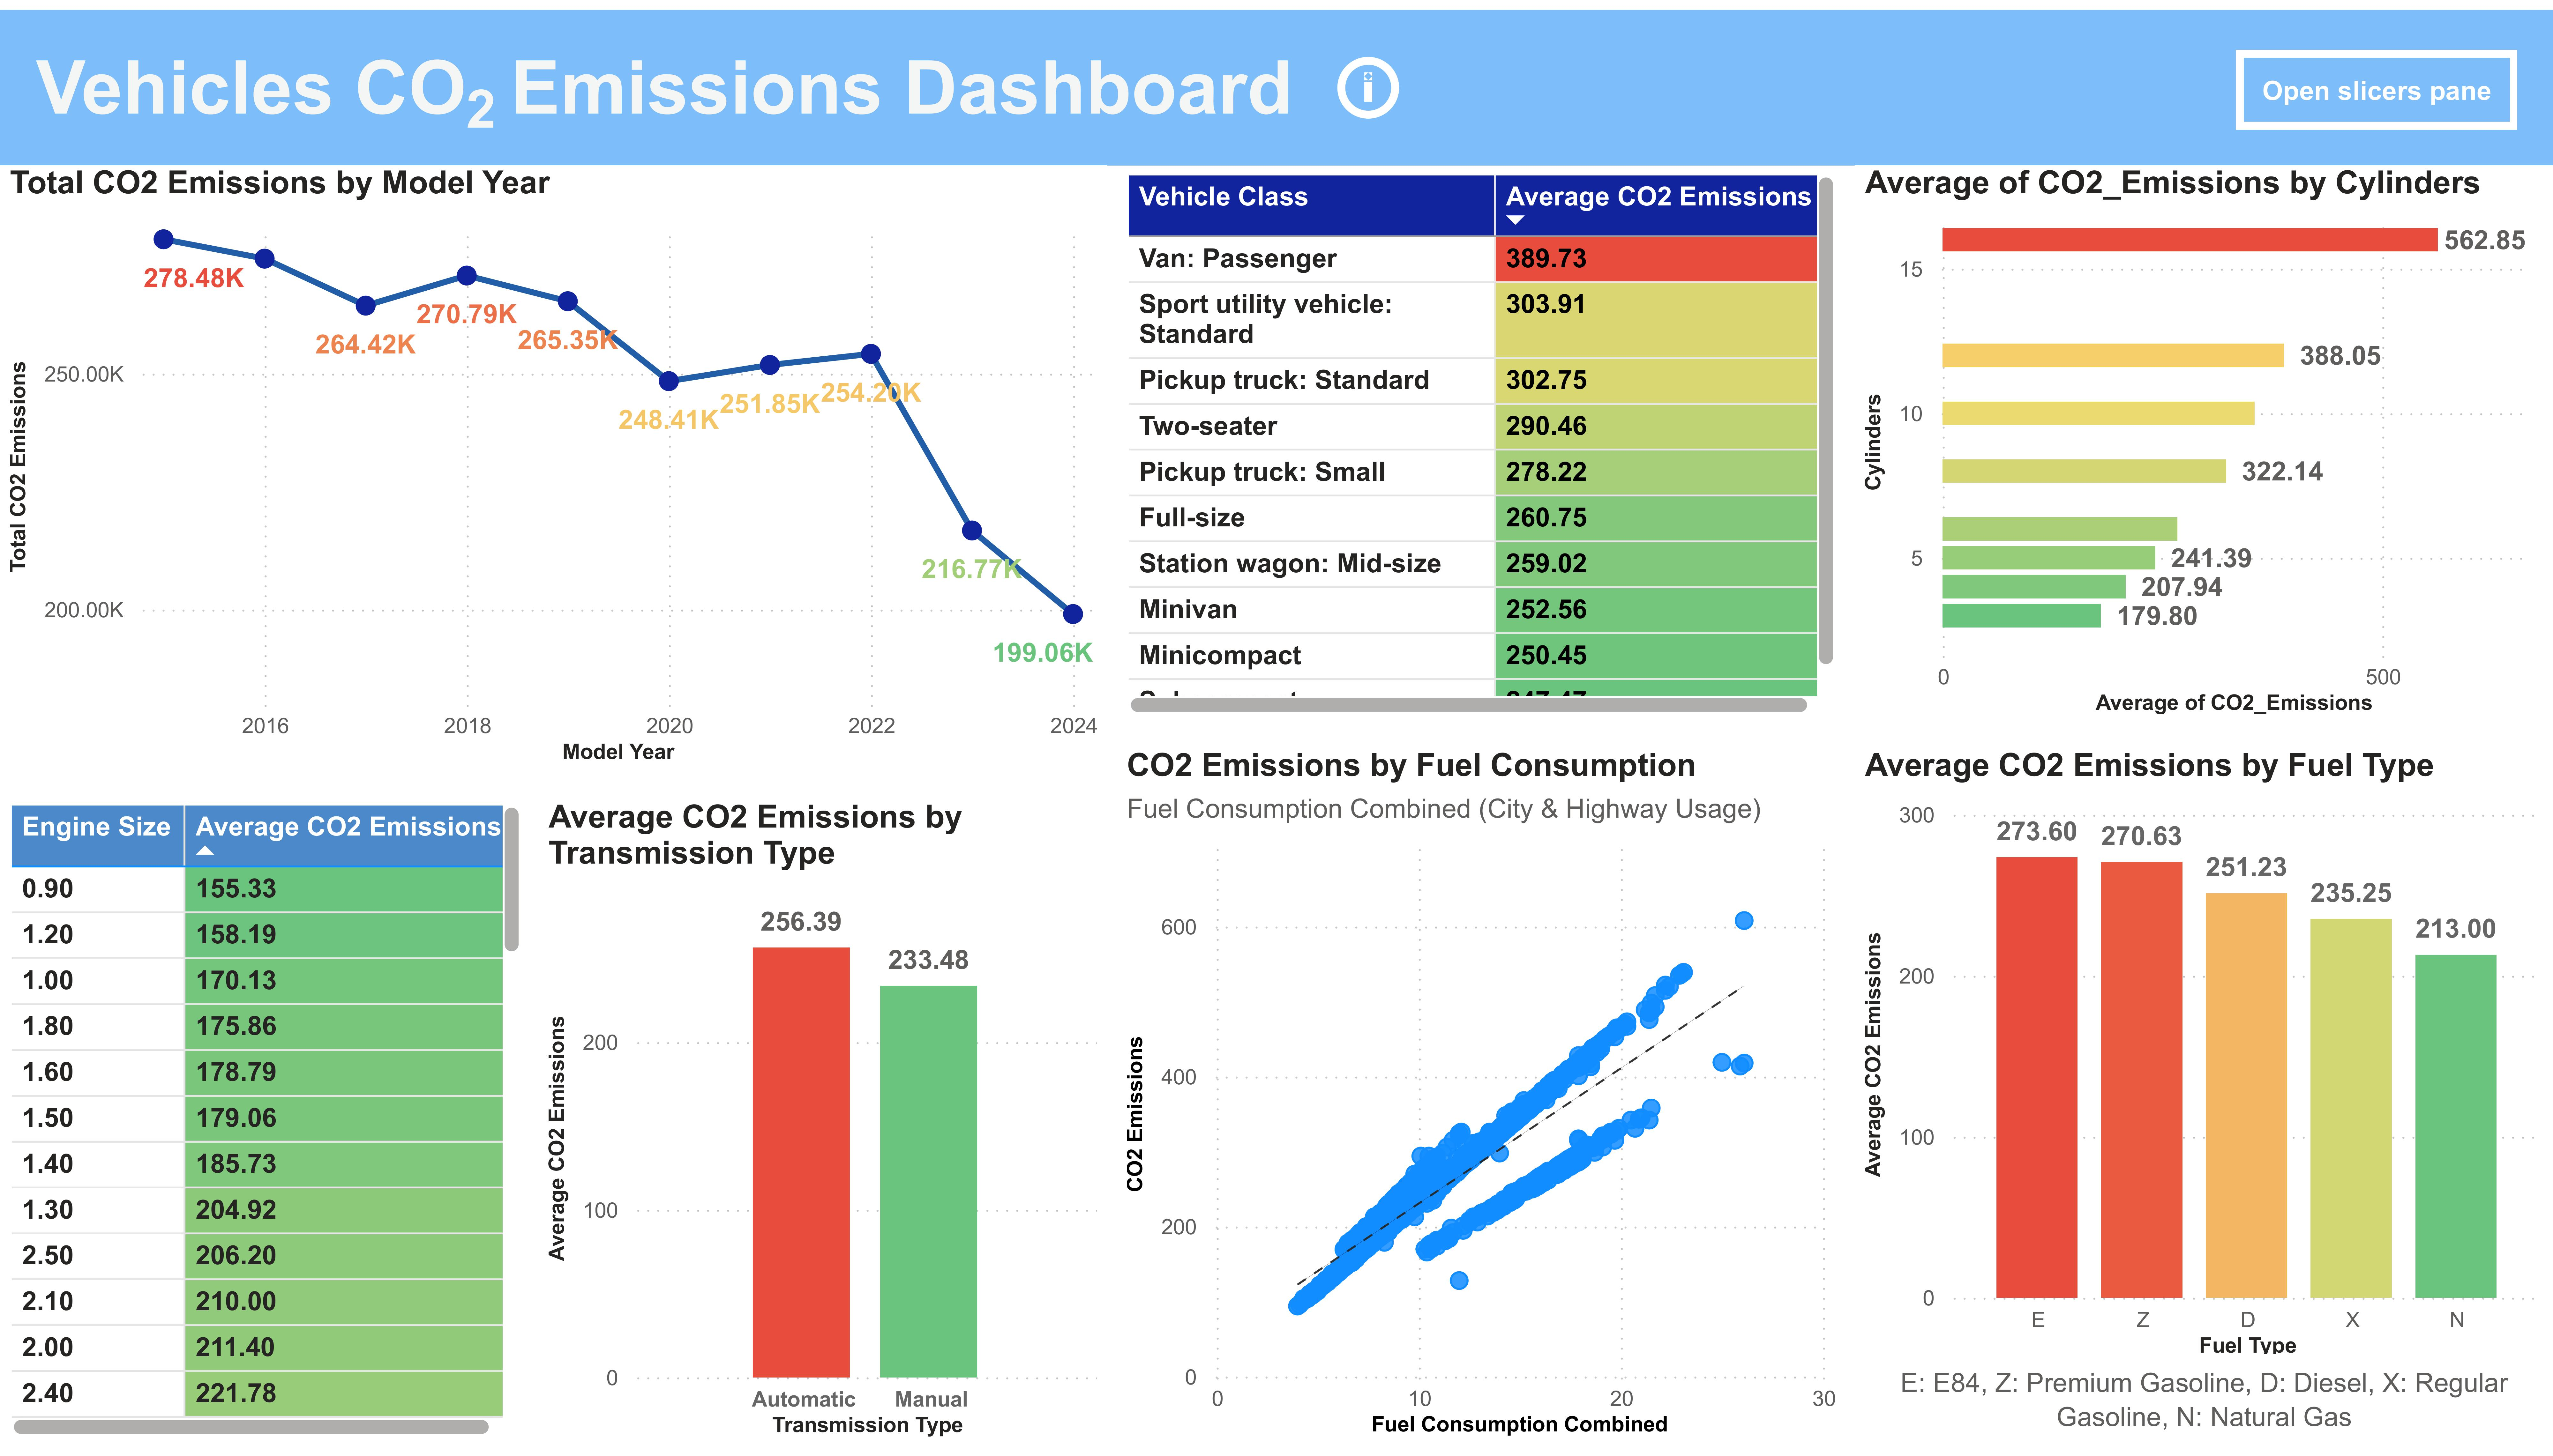

The dashboard page shown, as its layout file describes it:
{"tool":"powerbi","page":{"name":"Descriptive","canvas":[1280,720],"ordinal":0},"visuals":[{"type":"tableEx","fields":{"Values":["Predicted CO2 Emissions with Residuals.Vehicle_Class","Avg(Predicted CO2 Emissions with Residuals.CO2_Emissions)"]},"box":[559.7,78,365,280],"z":0},{"type":"scatterChart","title":"CO2 Emissions by Fuel Consumption","fields":{"Y":["Predicted CO2 Emissions with Residuals.CO2_Emissions"],"X":["Predicted CO2 Emissions with Residuals.Fuel_Consumption_Combined"]},"box":[559.7,369.7,365,350.3],"z":1000},{"type":"columnChart","fields":{"Y":["Avg(Predicted CO2 Emissions with Residuals.CO2_Emissions)"],"Category":["Predicted CO2 Emissions with Residuals.Fuel_Type"]},"box":[929.7,370,349.1,310.7],"z":2000,"group":"g1"},{"type":"tableEx","fields":{"Values":["Predicted CO2 Emissions with Residuals.Engine_Size","Avg(Predicted CO2 Emissions with Residuals.CO2_Emissions)"]},"box":[0,394.5,266.5,325.8],"z":2000},{"type":"shape","title":"Vehicles'' CO2 Emissions Dashboard","box":[0,0,1280,78],"z":3000},{"type":"textbox","box":[12.6,12.6,654.6,65.2],"z":4000},{"type":"textbox","box":[930,674.5,350.3,45.5],"z":4000,"group":"g1"},{"type":"lineChart","fields":{"Category":["Predicted CO2 Emissions with Residuals.Model_Year"],"Y":["Sum(Predicted CO2 Emissions with Residuals.CO2_Emissions)"]},"box":[0,78,555,305],"z":6000},{"type":"group","id":"g1","title":"Group 1","box":[929.7,370,350.6,350],"z":7000},{"type":"barChart","fields":{"Y":["Avg(Predicted CO2 Emissions with Residuals.CO2_Emissions)"],"Category":["Predicted CO2 Emissions with Residuals.Cylinders"]},"box":[929.7,78,350.3,280.4],"z":8000},{"type":"columnChart","fields":{"Category":["Predicted CO2 Emissions with Residuals.Transmission_Type"],"Y":["Avg(Predicted CO2 Emissions with Residuals.CO2_Emissions)"]},"box":[270,395.6,285.1,324.7],"z":9000},{"type":"actionButton","box":[666.4,19.5,40,40.2],"z":10000},{"type":"actionButton","box":[1120.9,20,141.4,40.1],"z":22000}]}

Visuals, with their boxes in screenshot pixels (x1, y1, x2, y2), scaled from the page's 1280x720 canvas onto the 2553x1456 screenshot:
tableEx - Predicted CO2 Emissions with Residuals.Vehicle_Class x Avg(Predicted CO2 Emissions with Residuals.CO2_Emissions): x1=1116 y1=158 x2=1844 y2=724
"CO2 Emissions by Fuel Consumption" scatterChart: x1=1116 y1=747 x2=1844 y2=1456
columnChart - Avg(Predicted CO2 Emissions with Residuals.CO2_Emissions) x Predicted CO2 Emissions with Residuals.Fuel_Type: x1=1854 y1=748 x2=2551 y2=1377
tableEx - Predicted CO2 Emissions with Residuals.Engine_Size x Avg(Predicted CO2 Emissions with Residuals.CO2_Emissions): x1=0 y1=798 x2=532 y2=1456
"Vehicles'' CO2 Emissions Dashboard" shape: x1=0 y1=0 x2=2553 y2=158
textbox: x1=25 y1=26 x2=1331 y2=157
textbox: x1=1855 y1=1364 x2=2553 y2=1456
lineChart - Predicted CO2 Emissions with Residuals.Model_Year x Sum(Predicted CO2 Emissions with Residuals.CO2_Emissions): x1=0 y1=158 x2=1107 y2=775
"Group 1" group: x1=1854 y1=748 x2=2553 y2=1456
barChart - Avg(Predicted CO2 Emissions with Residuals.CO2_Emissions) x Predicted CO2 Emissions with Residuals.Cylinders: x1=1854 y1=158 x2=2553 y2=725
columnChart - Predicted CO2 Emissions with Residuals.Transmission_Type x Avg(Predicted CO2 Emissions with Residuals.CO2_Emissions): x1=539 y1=800 x2=1107 y2=1456
actionButton: x1=1329 y1=40 x2=1409 y2=121
actionButton: x1=2236 y1=41 x2=2518 y2=122
